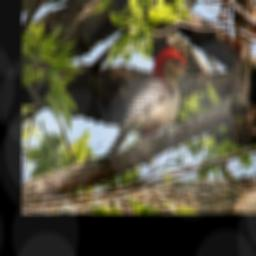Woodpecker: (99, 45, 204, 161)
